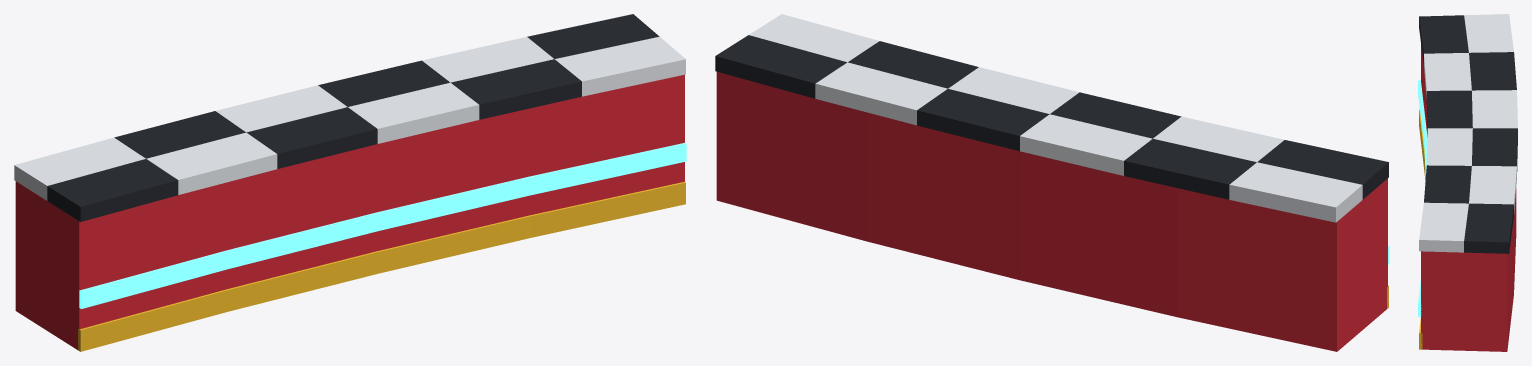
The model's file is BowlRimSegment.fbx.
3 renders of one model, left to right at view 1: azimuth 30°, elevation 25°; view 2: azimuth 150°, elevation 25°; view 3: azimuth 270°, elevation 25°, orthographic. The views are drawn at different scales.
Visible parts, largest first — view 1: BowlRimSegment, Neon_Cyan; view 2: BowlRimSegment; view 3: BowlRimSegment, Neon_Cyan.
Part boxes in pixels (<box>): BowlRimSegment: <box>14,14,685,351</box>; Neon_Cyan: <box>79,143,686,308</box>; BowlRimSegment: <box>715,14,1388,351</box>; BowlRimSegment: <box>1419,14,1517,351</box>; Neon_Cyan: <box>1418,80,1427,316</box>.
Size of the model in its own units: 14.97 by 3.35 by 2.77.
Materials: 2 (1 with a texture image).
